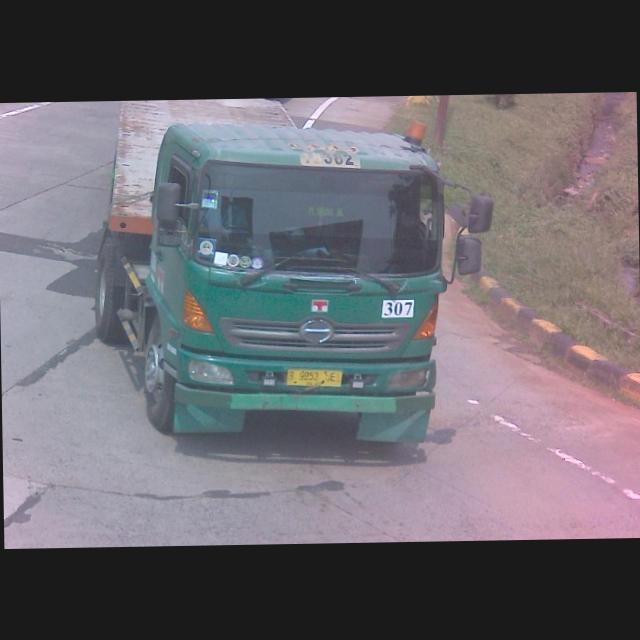plate: (286, 367, 344, 391)
